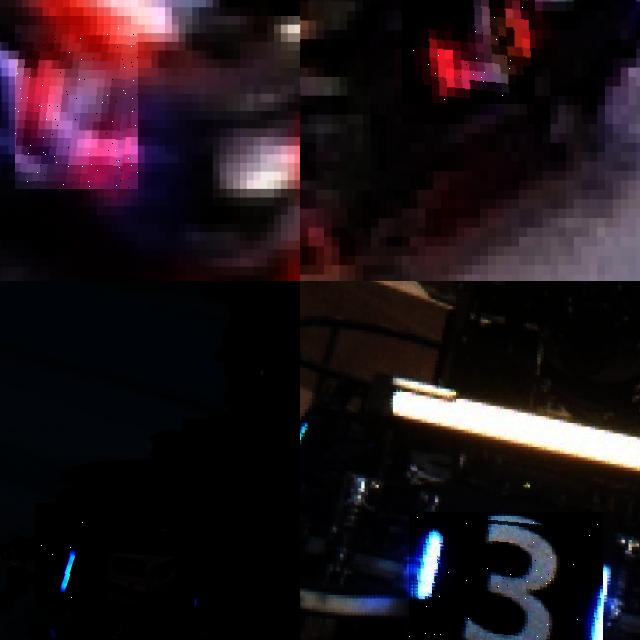B3: (409, 512, 602, 640)
Bs: (35, 503, 84, 609)
R4: (15, 25, 138, 189), (402, 0, 534, 105)
